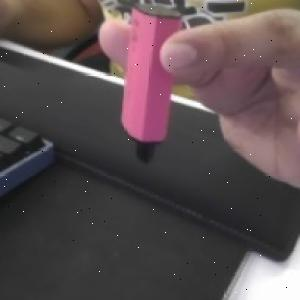Blume-E-Ciggirate: (118, 0, 185, 171)
